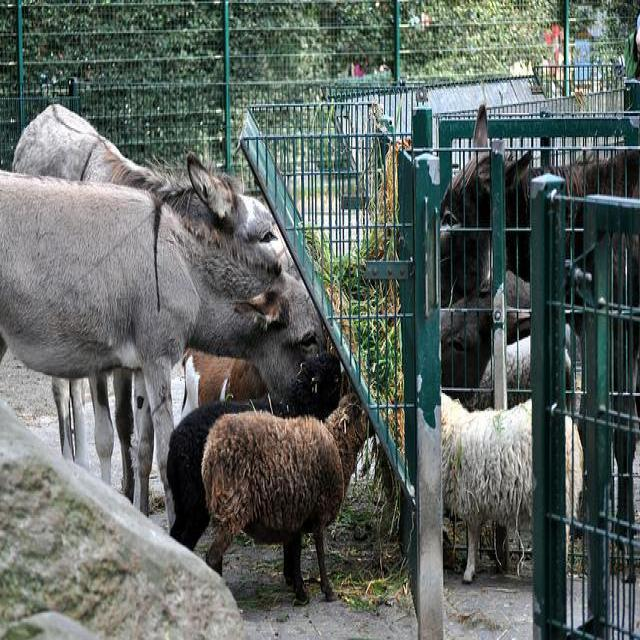Sheep: (202, 392, 375, 606), (168, 352, 342, 550), (439, 394, 582, 582), (465, 336, 529, 411)
